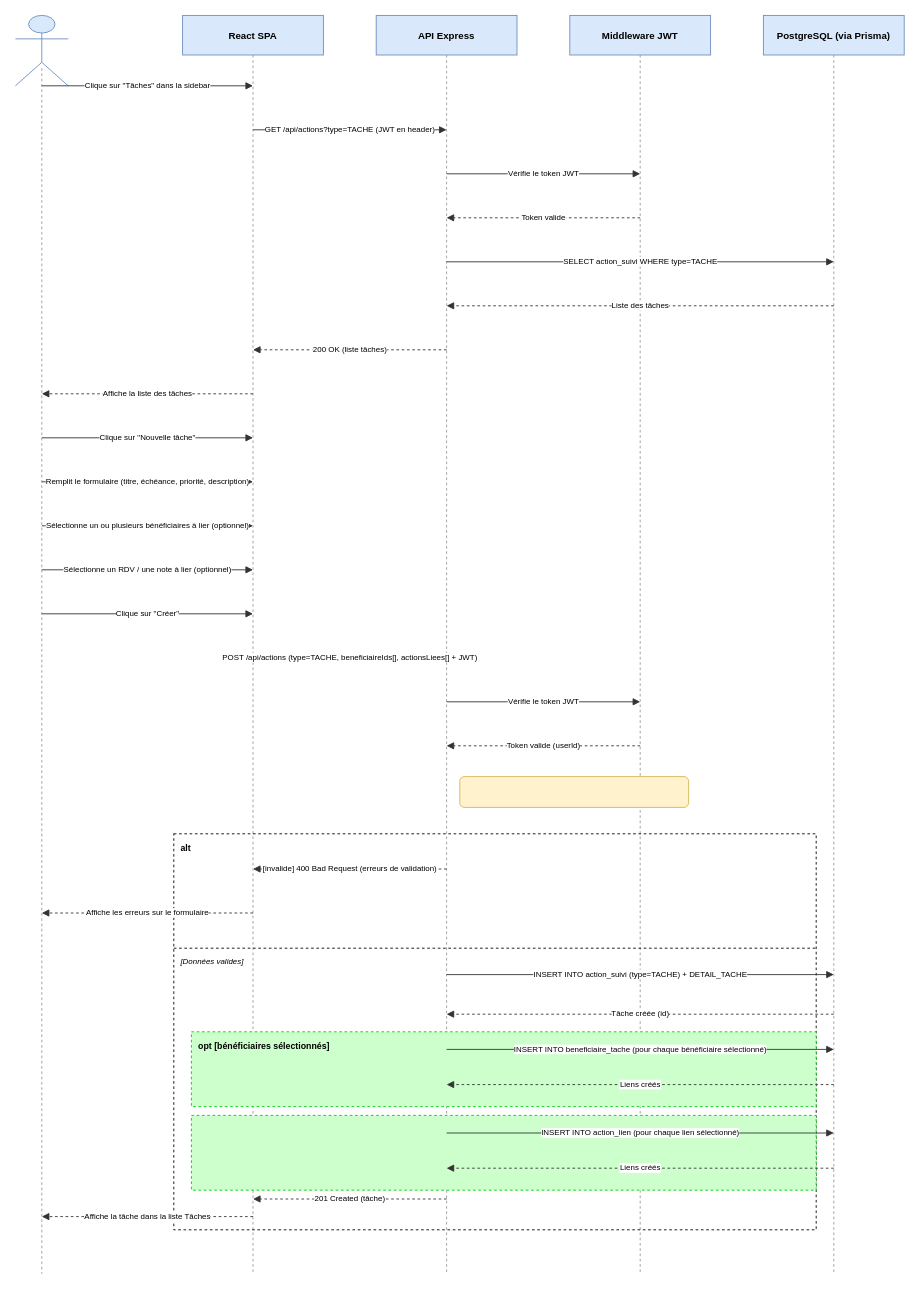
Some shapes in this 920 by 1290 pixel diagram are drawn without their labels. The box of each missing label's shape, as (x1, y1, x2, y2) in pixels:
opt [RDV / note sélectionné]: (191, 1115, 816, 1190)
Utilisateur: (15, 15, 68, 86)
Valide les données (champs requis, bénéficiaires et actions liées existent): (459, 776, 689, 807)
